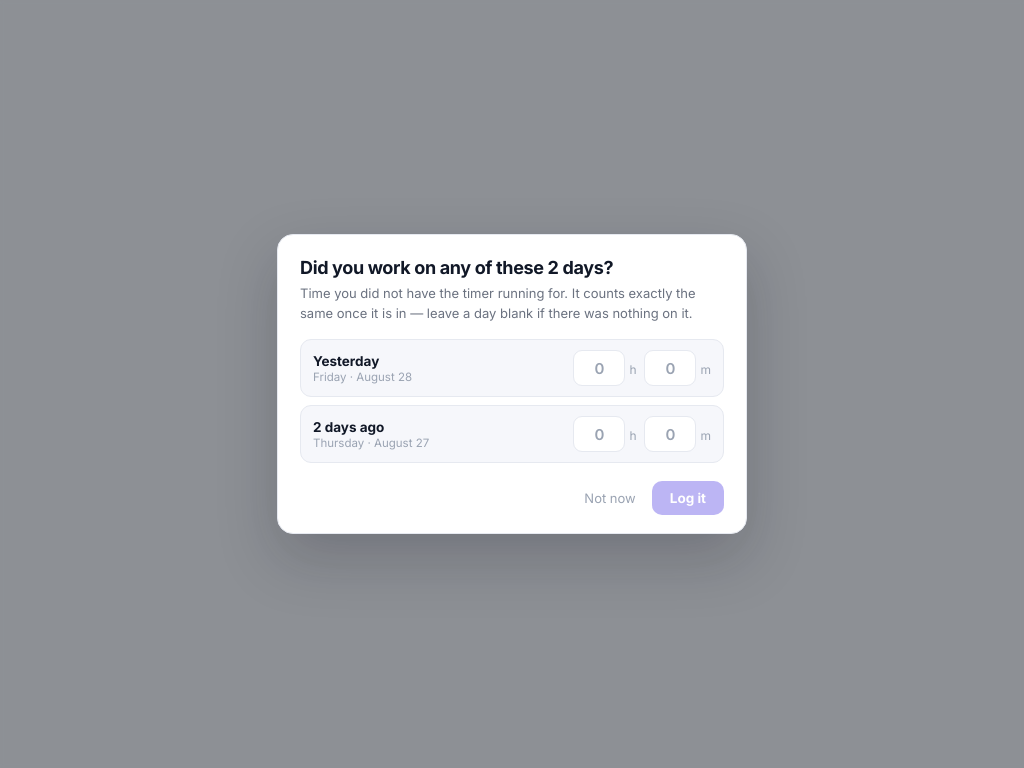
Test: the catch-up prompt › takes digits and nothing else
Step 1. Type "1e-9" into the field named "Hours worked on Friday August 28" → (599, 368), box x1=573 y1=350 x2=625 y2=386
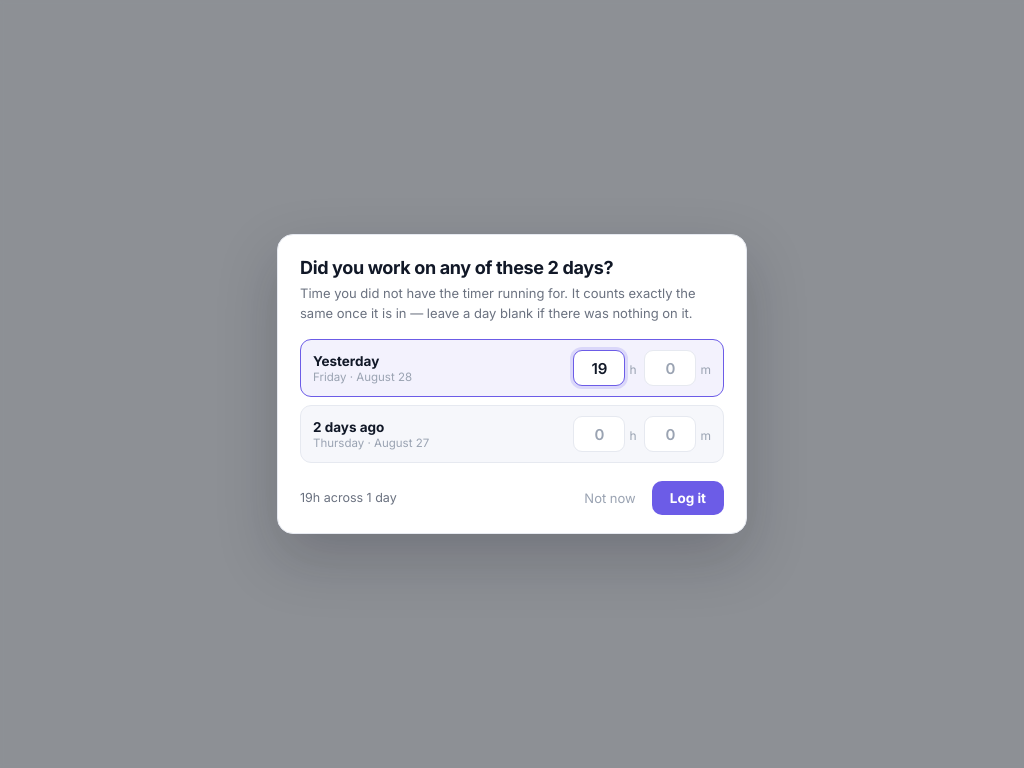
Expected: the field named "Hours worked on Friday August 28" holds "19", x1=573 y1=350 x2=625 y2=386
